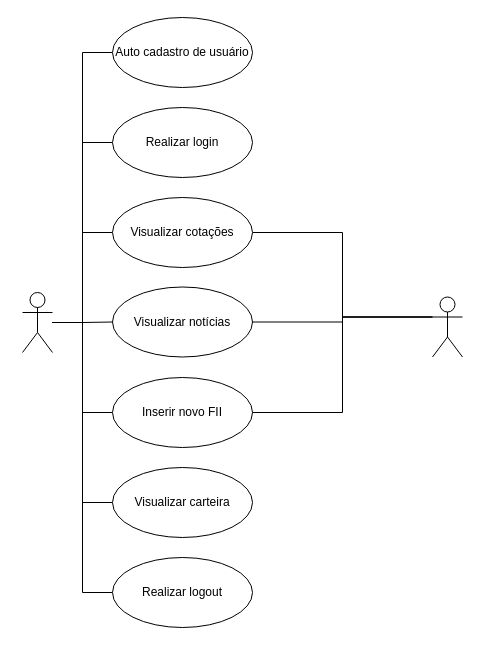
Image size: 503x645. Some labels were removed from this diagram. Each missing label, with the centre of its shape:
APIs Externas: the point at 447,326
Usuário: the point at 37,322
